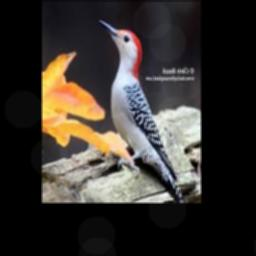Woodpecker: (99, 19, 187, 203)
